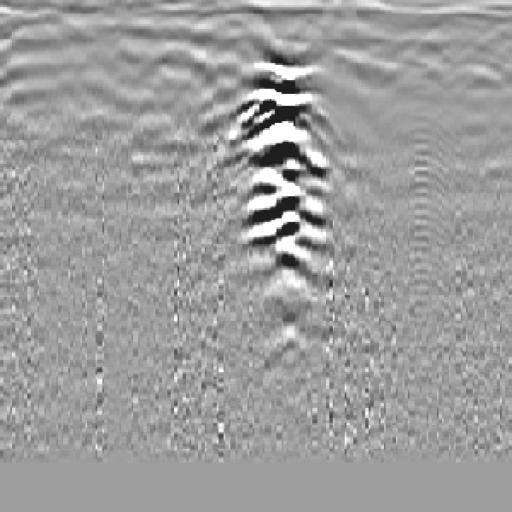metalic: (183, 21, 387, 348)
